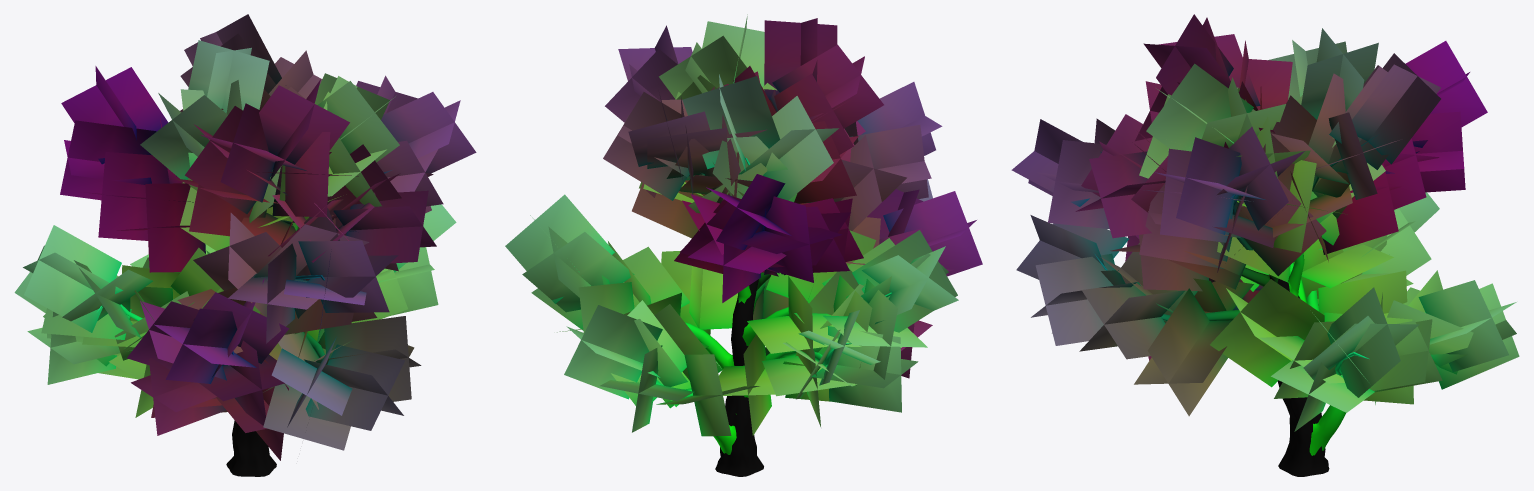
File: URP_P11_Tree_10_LOD_0.fbx
3 renders of one model, left to right at view 1: azimuth 30°, elevation 25°; view 2: azimuth 150°, elevation 25°; view 3: azimuth 270°, elevation 25°, orthographic. The views are drawn at different scales.
Visible parts, largest first — view 1: Tree_10_LOD_0; view 2: Tree_10_LOD_0; view 3: Tree_10_LOD_0.
Boxes of the visible parts, x1,y1,x2,y2 form: Tree_10_LOD_0: [14, 14, 476, 476]; Tree_10_LOD_0: [505, 14, 982, 476]; Tree_10_LOD_0: [1011, 14, 1519, 476].
Size of the model in its own units: 636 by 597 by 620.
